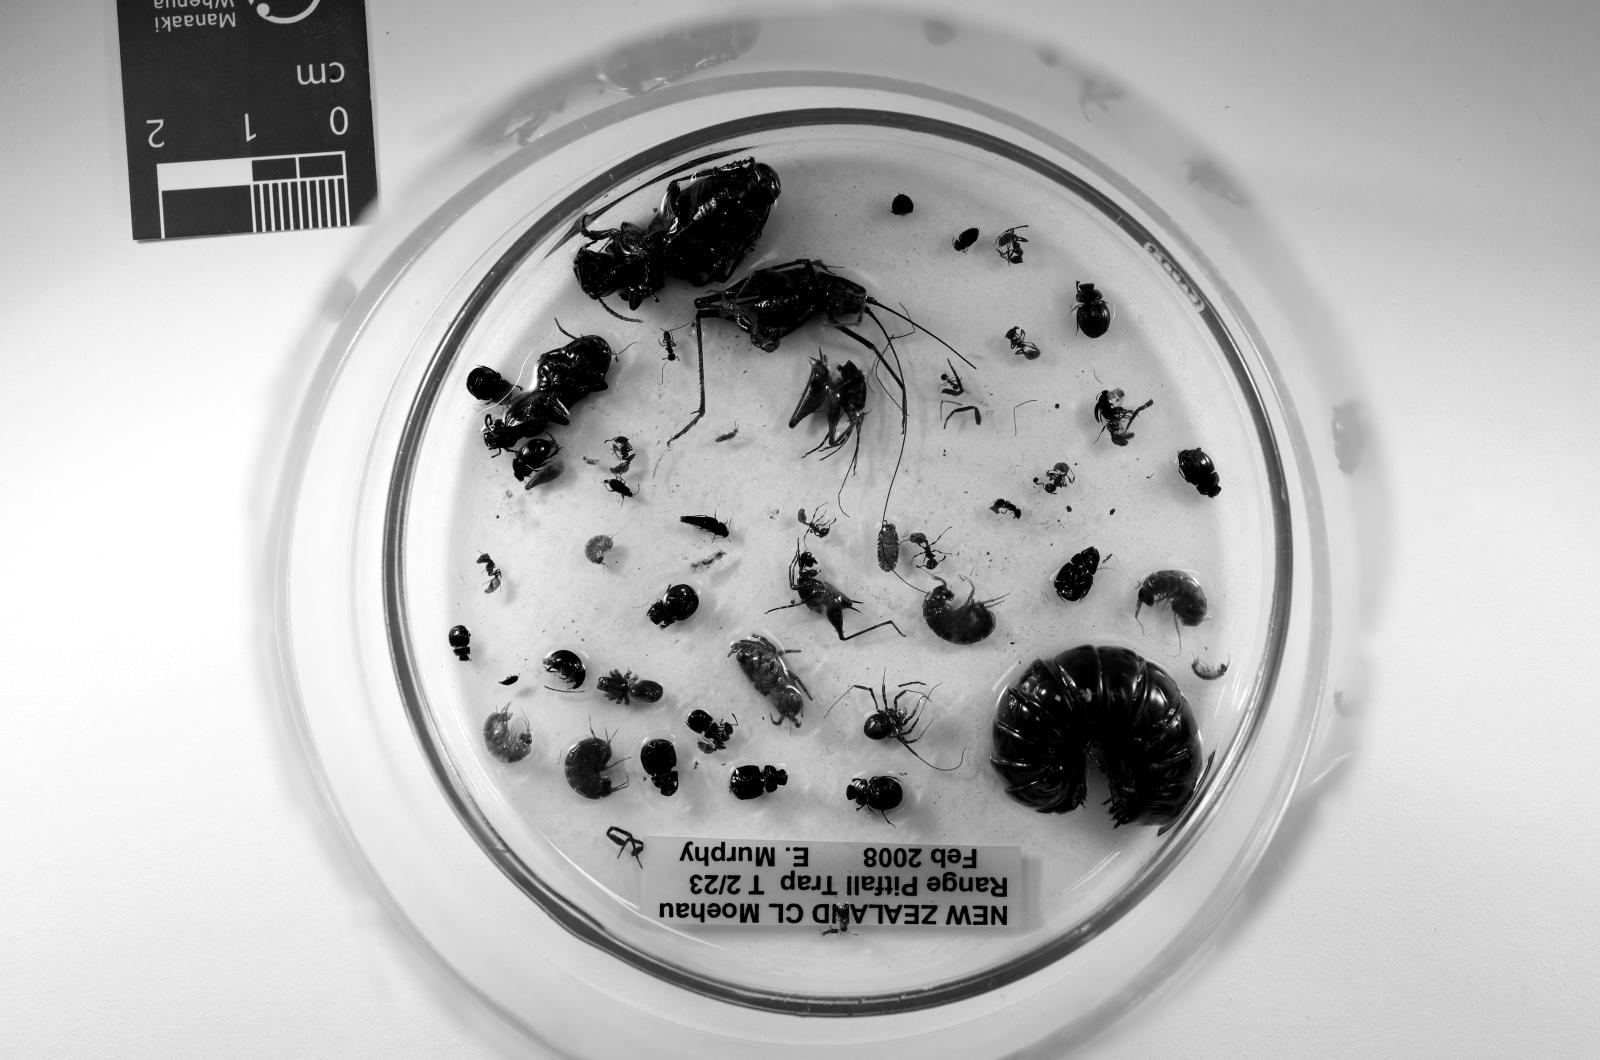amphipoda: (1134, 568, 1206, 649), (922, 577, 1000, 646), (563, 730, 628, 801), (485, 705, 531, 764), (584, 535, 613, 565), (1191, 658, 1229, 680)
araneae: (728, 634, 812, 726), (597, 671, 662, 705)
carabidae: (575, 159, 782, 310), (481, 336, 613, 453)
coleoptera: (1054, 547, 1100, 602), (847, 776, 903, 816), (728, 764, 788, 801), (647, 584, 697, 627), (512, 438, 559, 481), (641, 739, 678, 795), (1178, 451, 1222, 497), (466, 367, 519, 403), (1075, 283, 1109, 338), (544, 649, 588, 690), (681, 516, 728, 537), (687, 711, 719, 739), (451, 625, 472, 661), (953, 227, 978, 252), (607, 478, 634, 497), (500, 677, 519, 686)
formicidae: (906, 531, 947, 571), (1031, 463, 1075, 493), (993, 227, 1028, 264), (697, 724, 734, 755), (1006, 327, 1041, 360), (797, 509, 835, 537), (609, 435, 634, 476), (478, 552, 503, 593), (991, 500, 1022, 518), (662, 329, 678, 360)
isopoda: (991, 646, 1203, 826), (879, 522, 900, 571)
opiliones: (853, 680, 928, 751)
orthoptera: (687, 258, 896, 428), (778, 543, 894, 642), (788, 354, 866, 451)
